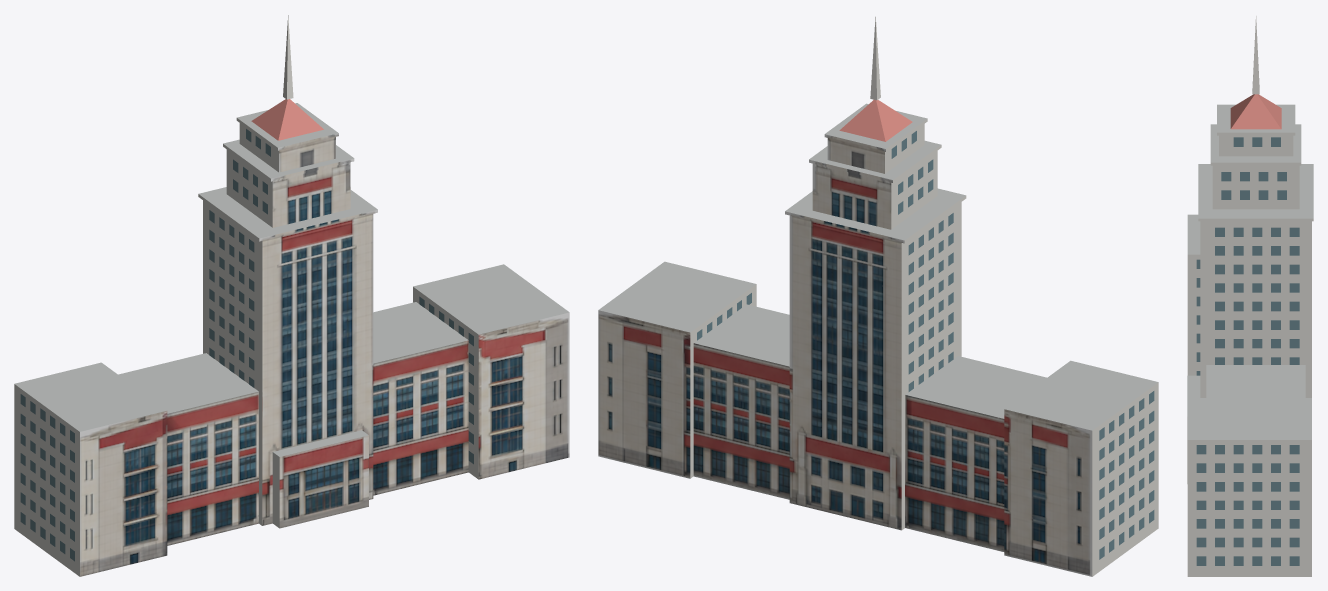
Rendered from clock.glb.
3 renders of one model, left to right at view 1: azimuth 30°, elevation 25°; view 2: azimuth 150°, elevation 25°; view 3: azimuth 270°, elevation 25°, orthographic. The views are drawn at different scales.
Parts seen in each view (by area): view 1: facade, roof, stone, glass, red; view 2: facade, roof, stone, glass, red; view 3: stone, roof, glass, red.
Boxes of the visible parts, x1=… form: facade: x1=80, y1=133, x2=569, y2=576; roof: x1=14, y1=103, x2=569, y2=456; stone: x1=14, y1=15, x2=478, y2=576; glass: x1=20, y1=129, x2=473, y2=561; red: x1=251, y1=99, x2=323, y2=140; facade: x1=598, y1=134, x2=1092, y2=576; roof: x1=598, y1=103, x2=1158, y2=430; stone: x1=690, y1=16, x2=1158, y2=576; glass: x1=697, y1=131, x2=1154, y2=559; red: x1=839, y1=99, x2=912, y2=141; stone: x1=1187, y1=16, x2=1313, y2=576; roof: x1=1187, y1=104, x2=1313, y2=439; glass: x1=1196, y1=137, x2=1299, y2=565; red: x1=1230, y1=94, x2=1281, y2=129.
Size of the model in its own units: 86.07 by 80 by 20.4.
5 materials, 1 textured.
